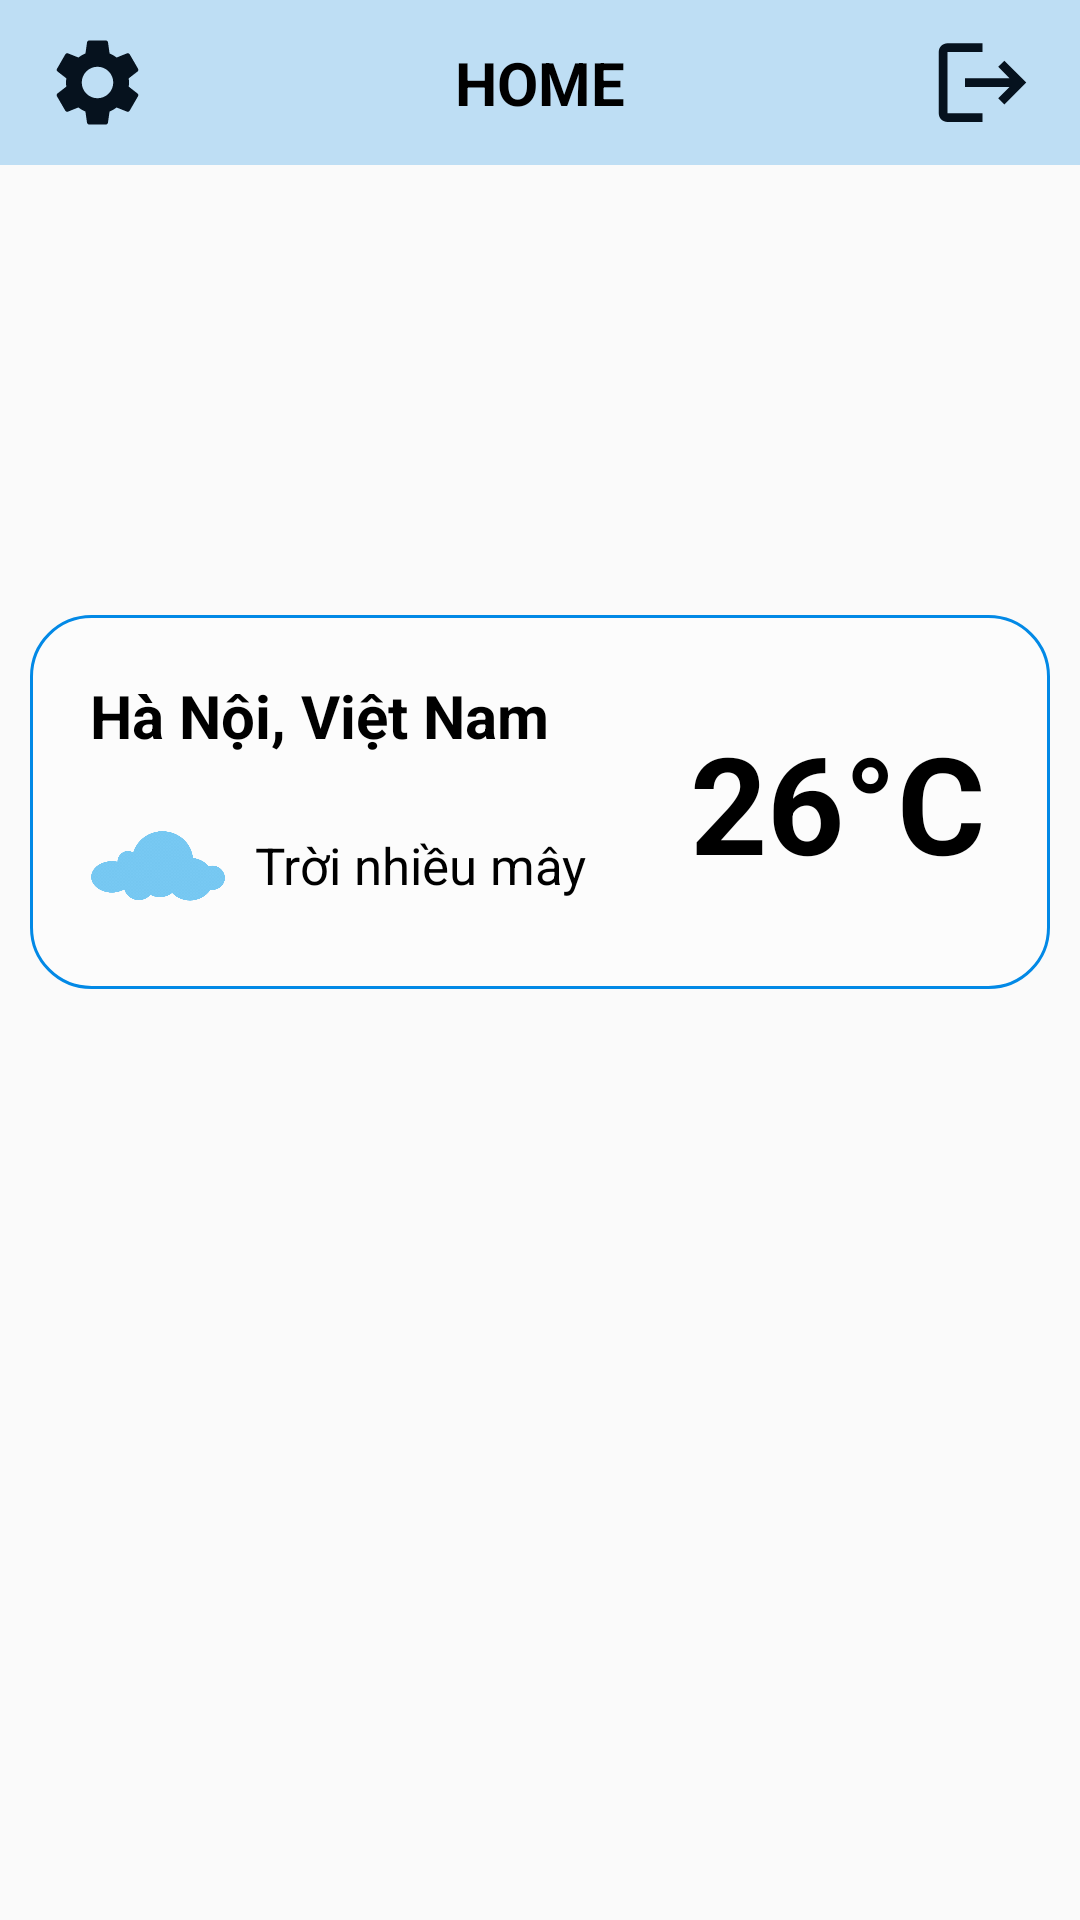

Screen size 1080 x 1920. Icon name, then its box in pixels as (x1, y1, x2, y2):
cloud: (91, 831, 225, 901)
settings: (56, 40, 139, 125)
